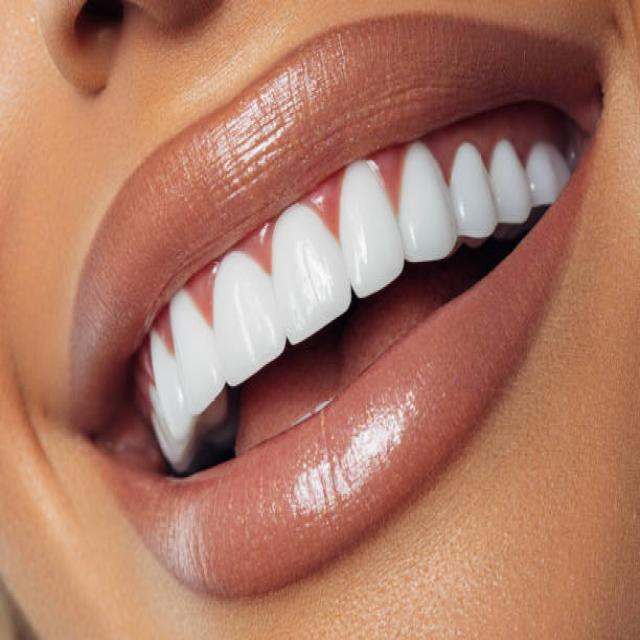tooth: (330, 173, 398, 287), (273, 233, 341, 324), (208, 273, 274, 365), (401, 147, 454, 260), (168, 312, 214, 406), (481, 125, 525, 223), (444, 154, 490, 237), (150, 342, 184, 423), (524, 149, 563, 204), (147, 394, 178, 441), (152, 424, 172, 461)
